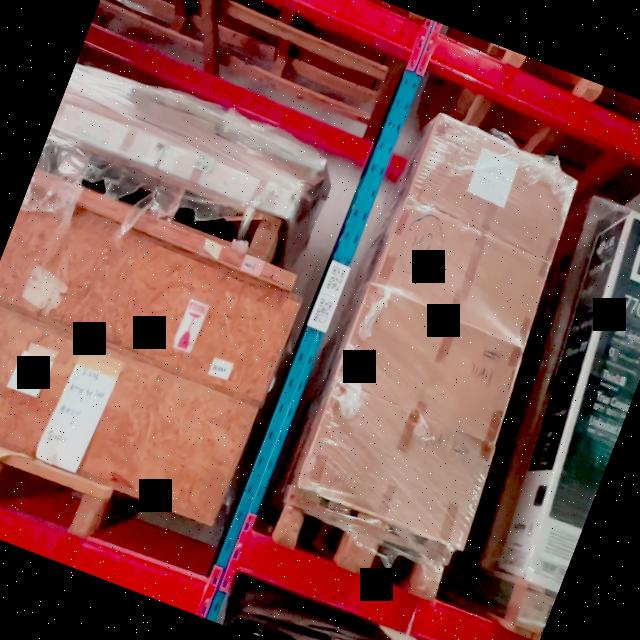box: (293, 387, 497, 548), (332, 292, 524, 439), (373, 212, 550, 341), (407, 127, 578, 253)
